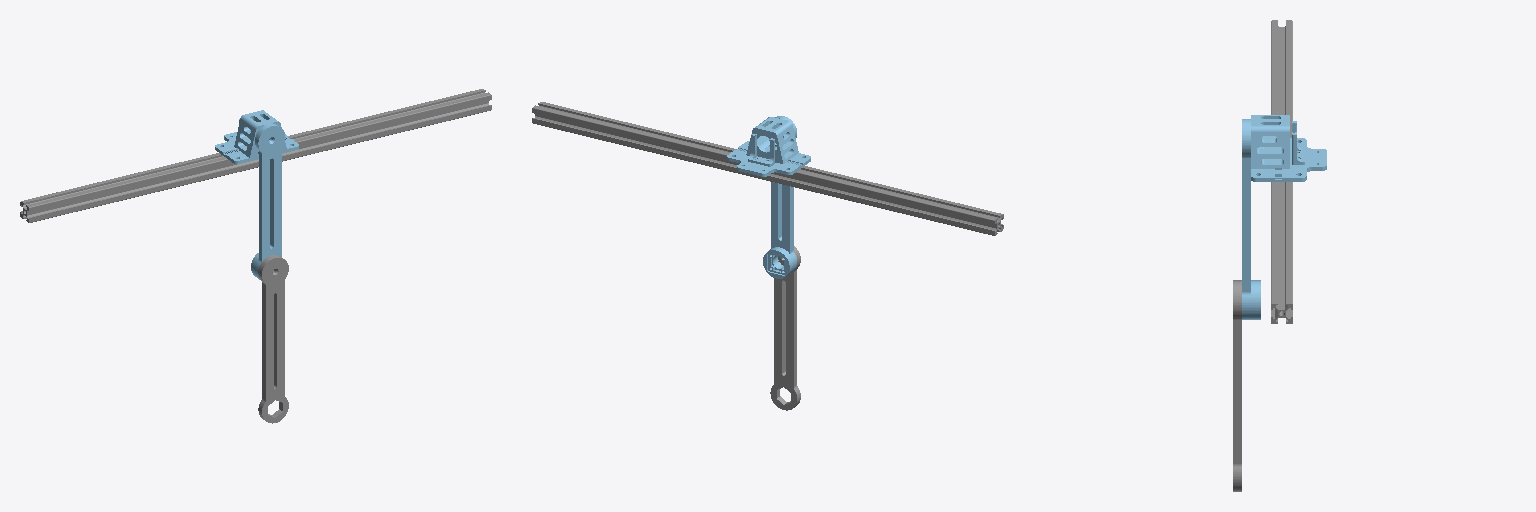
URDF robot description (gradus-simulation):
<?xml version="1.0" ?>
<!-- Generated using onshape-to-robot -->
<!-- Onshape document_id: 0abfcee1dd6faf68fc67652f -->
<robot name="gradus-simulation">
  <!-- Link beam_1 -->
  <link name="beam_1">
    <inertial>
      <origin xyz="-0.091068 -0.096204 0.0872103" rpy="0 0 0"/>
      <mass value="0.277768"/>
      <inertia ixx="2.36567e-05" ixy="-0" ixz="0" iyy="0.00834488" iyz="-0" izz="0.00834488"/>
    </inertial>
    <!-- Part beam_1 -->
    <visual>
      <origin xyz="-0.091068 -0.106204 0.0772103" rpy="1.5708 9.2e-11 1.5708"/>
      <geometry>
        <mesh filename="package://assets/beam_1.stl"/>
      </geometry>
      <material name="beam_1_material">
        <color rgba="0.627451 0.627451 0.627451 1"/>
      </material>
    </visual>
    <collision>
      <origin xyz="-0.091068 -0.106204 0.0772103" rpy="1.5708 9.2e-11 1.5708"/>
      <geometry>
        <mesh filename="package://assets/beam_1.stl"/>
      </geometry>
    </collision>
    <!-- Part beam_1_2 -->
    <visual>
      <origin xyz="-0.391068 -0.106204 0.0772103" rpy="1.5708 9.2e-11 1.5708"/>
      <geometry>
        <mesh filename="package://assets/beam_1.stl"/>
      </geometry>
      <material name="beam_1_2_material">
        <color rgba="0.627451 0.627451 0.627451 1"/>
      </material>
    </visual>
    <collision>
      <origin xyz="-0.391068 -0.106204 0.0772103" rpy="1.5708 9.2e-11 1.5708"/>
      <geometry>
        <mesh filename="package://assets/beam_1.stl"/>
      </geometry>
    </collision>
  </link>
  <!-- Link holder -->
  <link name="holder">
    <inertial>
      <origin xyz="-0.004992 0.0123879 -1.77461e-05" rpy="0 0 0"/>
      <mass value="0.119714"/>
      <inertia ixx="5.8441e-05" ixy="6.66679e-06" ixz="7.5107e-08" iyy="6.91238e-05" iyz="-2.2031e-08" izz="5.13041e-05"/>
    </inertial>
    <!-- Part holder -->
    <visual>
      <origin xyz="0.00851512 0.004 -0" rpy="-1.5708 1.5708 0"/>
      <geometry>
        <mesh filename="package://assets/holder.stl"/>
      </geometry>
      <material name="holder_material">
        <color rgba="0.615686 0.811765 0.929412 1"/>
      </material>
    </visual>
    <collision>
      <origin xyz="0.00851512 0.004 -0" rpy="-1.5708 1.5708 0"/>
      <geometry>
        <mesh filename="package://assets/holder.stl"/>
      </geometry>
    </collision>
    <!-- Part base -->
    <visual>
      <origin xyz="-0.00301312 -0 -0" rpy="-1.5708 -1.5708 0"/>
      <geometry>
        <mesh filename="package://assets/base.stl"/>
      </geometry>
      <material name="base_material">
        <color rgba="0.615686 0.811765 0.929412 1"/>
      </material>
    </visual>
    <collision>
      <origin xyz="-0.00301312 -0 -0" rpy="-1.5708 -1.5708 0"/>
      <geometry>
        <mesh filename="package://assets/base.stl"/>
      </geometry>
    </collision>
    <!-- Part shoulder -->
    <visual>
      <origin xyz="-0.00301312 0 -0" rpy="-1.5708 -1.5708 0"/>
      <geometry>
        <mesh filename="package://assets/shoulder.stl"/>
      </geometry>
      <material name="shoulder_material">
        <color rgba="0.615686 0.811765 0.929412 1"/>
      </material>
    </visual>
    <collision>
      <origin xyz="-0.00301312 0 -0" rpy="-1.5708 -1.5708 0"/>
      <geometry>
        <mesh filename="package://assets/shoulder.stl"/>
      </geometry>
    </collision>
  </link>
  <!-- Link arm_1 -->
  <link name="arm_1">
    <inertial>
      <origin xyz="0 -0.0885241 -0.00286629" rpy="0 0 0"/>
      <mass value="0.110373"/>
      <inertia ixx="0.00041845" ixy="0" ixz="-0" iyy="9.8519e-06" iyz="8.89379e-06" izz="0.00042537"/>
    </inertial>
    <!-- Part arm_1 -->
    <visual>
      <origin xyz="0 -0.16 -0.008" rpy="-0 -0 0"/>
      <geometry>
        <mesh filename="package://assets/arm_1.stl"/>
      </geometry>
      <material name="arm_1_material">
        <color rgba="0.615686 0.811765 0.929412 1"/>
      </material>
    </visual>
    <collision>
      <origin xyz="0 -0.16 -0.008" rpy="-0 -0 0"/>
      <geometry>
        <mesh filename="package://assets/arm_1.stl"/>
      </geometry>
    </collision>
  </link>
  <!-- Link arm_2 -->
  <link name="arm_2">
    <inertial>
      <origin xyz="0 -0.0793021 -0.00399678" rpy="0 0 0"/>
      <mass value="0.097167"/>
      <inertia ixx="0.000356524" ixy="-0" ixz="0" iyy="7.52572e-06" iyz="-2.4847e-08" izz="0.000363014"/>
    </inertial>
    <!-- Part arm_2 -->
    <visual>
      <origin xyz="-0.0491911 -0.1325 -0.008" rpy="0 -0 -0"/>
      <geometry>
        <mesh filename="package://assets/arm_2.stl"/>
      </geometry>
      <material name="arm_2_material">
        <color rgba="0.647059 0.647059 0.647059 1"/>
      </material>
    </visual>
    <collision>
      <origin xyz="-0.0491911 -0.1325 -0.008" rpy="0 -0 -0"/>
      <geometry>
        <mesh filename="package://assets/arm_2.stl"/>
      </geometry>
    </collision>
  </link>
  <!-- Joint from arm_1 to arm_2 -->
  <joint name="elbow_continuous" type="continuous">
    <origin xyz="0 -0.16 -0.008" rpy="-0 0 -0"/>
    <parent link="arm_1"/>
    <child link="arm_2"/>
    <axis xyz="0 0 1"/>
    <limit effort="10" velocity="10"/>
  </joint>
  <!-- Joint from holder to arm_1 -->
  <joint name="shoulder_continuous" type="continuous">
    <origin xyz="-0.0279849 0.0236 -0" rpy="-0 1.5708 0"/>
    <parent link="holder"/>
    <child link="arm_1"/>
    <axis xyz="0 0 1"/>
    <limit effort="10" velocity="10"/>
  </joint>
  <!-- Joint from beam_1 to holder -->
  <joint name="cart" type="prismatic">
    <origin xyz="-0.091068 -0.096004 0.0972103" rpy="1.5708 9.2e-11 1.5708"/>
    <parent link="beam_1"/>
    <child link="holder"/>
    <axis xyz="0 0 1"/>
    <limit effort="10" velocity="10" lower="-0.38" upper="0.45"/>
  </joint>
</robot>

--- Render facts (derived) ---
3 views of the same robot in one strip: view 1: azimuth 30°, elevation 25°; view 2: azimuth 150°, elevation 25°; view 3: azimuth 270°, elevation 25° (orthographic).
Model gradus-simulation with 4 links and 3 joints (2 continuous, 1 prismatic), rooted at beam_1, posed every joint at zero.
Visible links, largest first — view 1: beam_1, arm_2, arm_1, holder; view 2: beam_1, arm_2, holder, arm_1; view 3: beam_1, holder, arm_1, arm_2.
Link boxes in pixels (x1=…): beam_1: x1=20, y1=89, x2=491, y2=222; arm_2: x1=258, y1=255, x2=288, y2=423; arm_1: x1=251, y1=123, x2=284, y2=279; holder: x1=215, y1=110, x2=298, y2=163; beam_1: x1=532, y1=102, x2=1003, y2=235; arm_2: x1=770, y1=246, x2=800, y2=410; holder: x1=727, y1=117, x2=810, y2=176; arm_1: x1=763, y1=116, x2=796, y2=278; beam_1: x1=1271, y1=20, x2=1292, y2=323; holder: x1=1251, y1=115, x2=1326, y2=181; arm_1: x1=1242, y1=119, x2=1260, y2=319; arm_2: x1=1233, y1=280, x2=1241, y2=491.
Size in the robot's own frame: 0.6 by 0.084 by 0.365 metres.
7 mesh visuals loaded from 6 distinct referenced files (6 binary STL).
